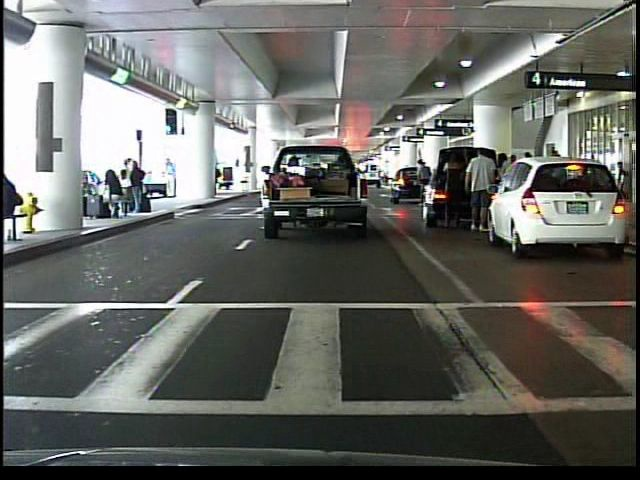person: (464, 145, 497, 237), (435, 143, 468, 231), (412, 155, 434, 209), (162, 156, 180, 199), (616, 158, 629, 183)
